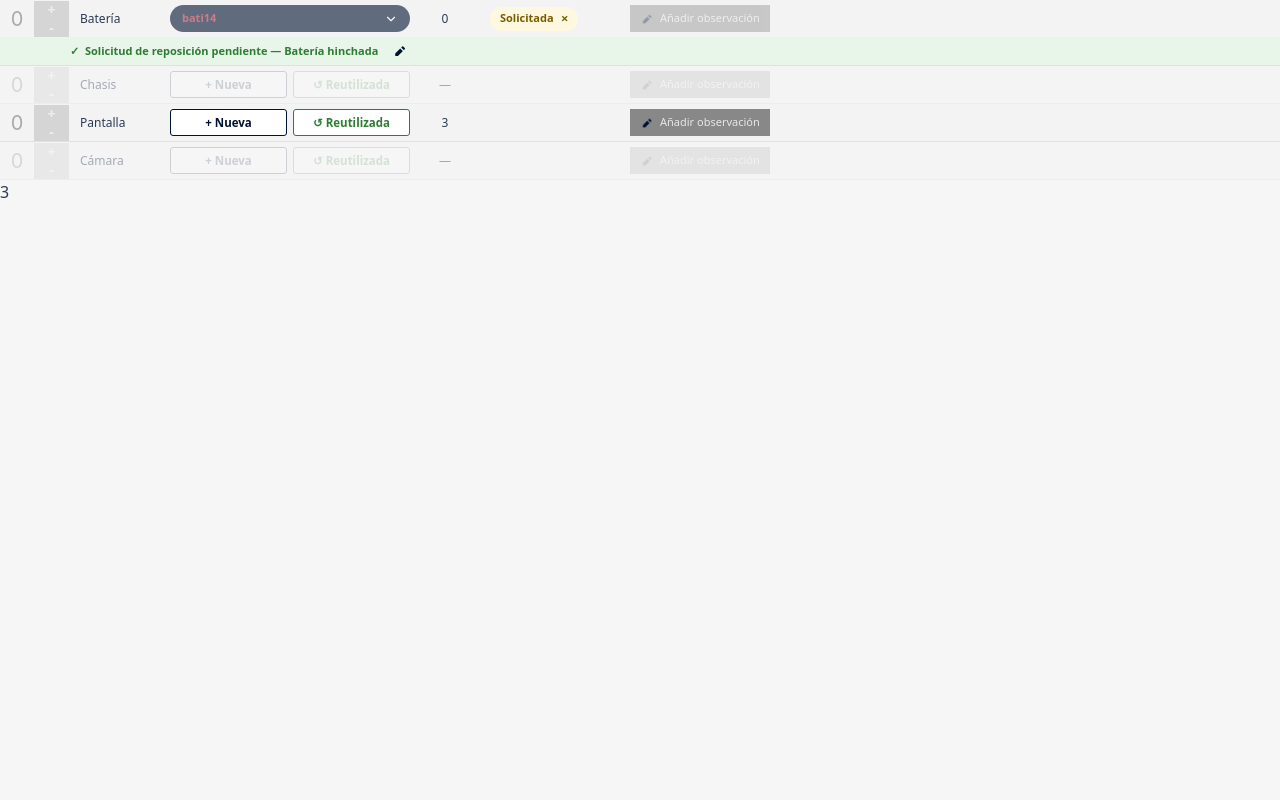
Test: SubFilaAgotado (ficha docs/paridad/formulario.md · Sub-fila de agotado y solicitud de pieza) › lápiz abre "Editar descripción de solicitud" con tres botones; "Guardar descripción" actualiza sin subir revision; "Cancelar" no cambia; "Cancelar solicitud" de
This screenshot has width=1280, height=800.
Click the button named "Editar descripción de solicitud de Batería" at (400, 51), box [388, 41, 412, 61]
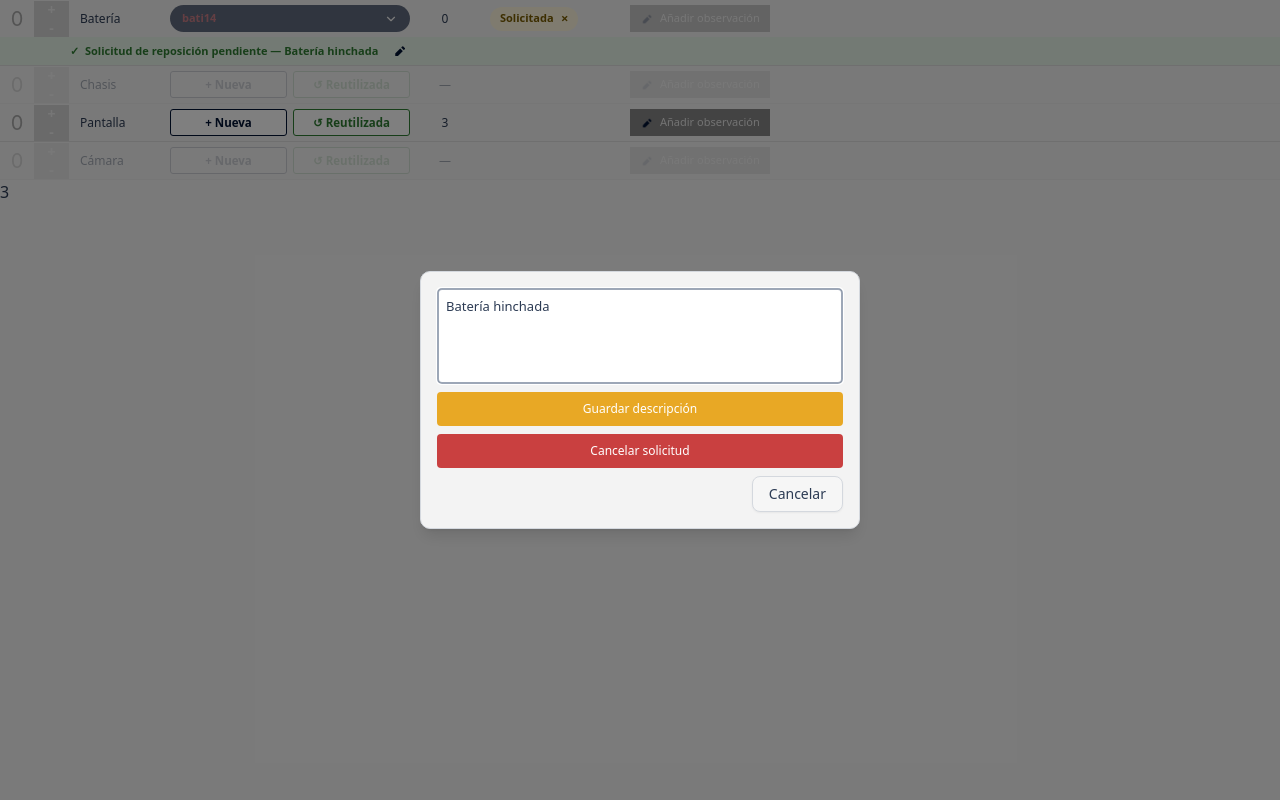
expect the text box holds "Batería hinchada": met
expect the buttons read "Guardar descripción", "Cancelar solicitud", "Cancelar", in this order: met, box [437, 392, 843, 426]; [437, 434, 843, 468]; [752, 476, 843, 512]
Replace the text in the text box with "Batería hinchada, urgente" at (640, 336), box [437, 288, 843, 384]
Click the button "Guardar descripción" at (640, 409), box [437, 392, 843, 426]
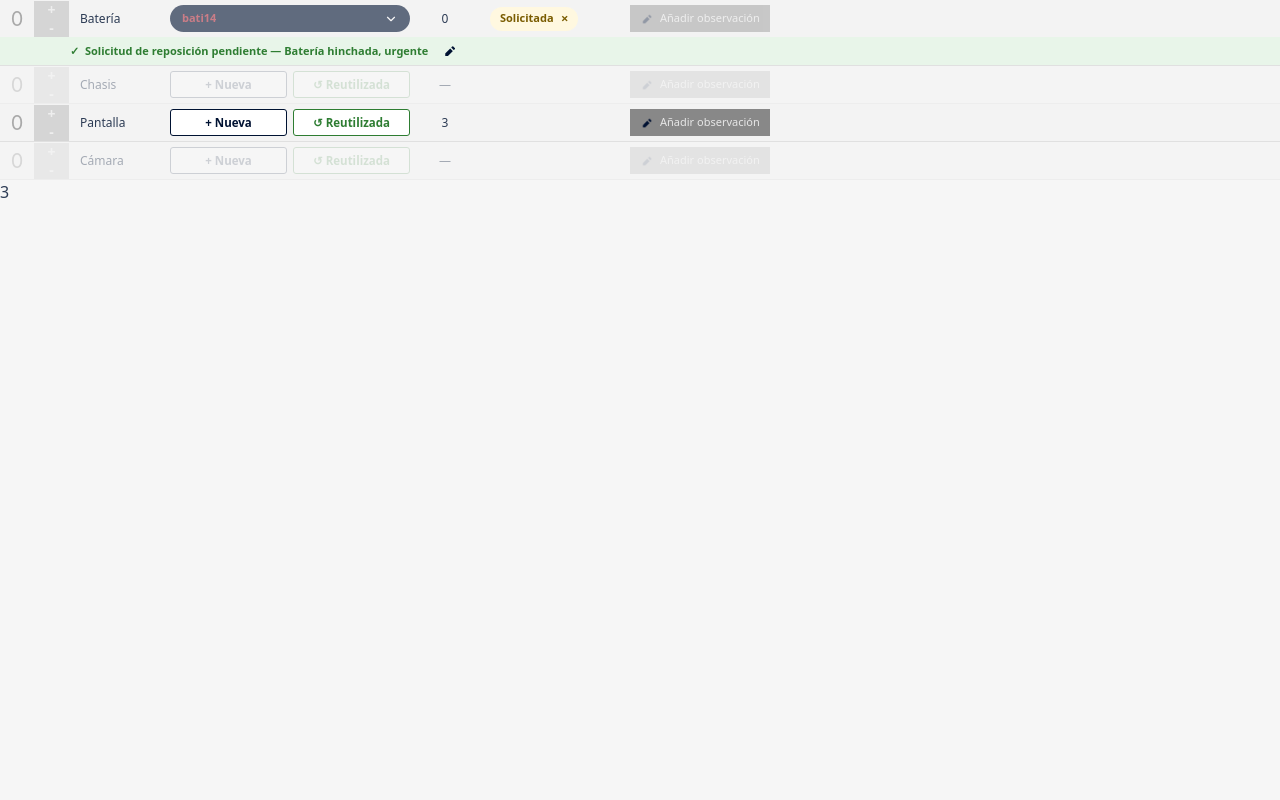
expect the text with test id "revision" reads "3": met, box [0, 181, 9, 203]
expect the dialog is gone: met
expect the text "Solicitud de reposición" reads "✓ Solicitud de reposición pendiente — Batería hinchada, urgente": met, box [70, 43, 428, 58]
// "Cancelar" cierra sin cambios.
Click the button named "Editar descripción de solicitud de Batería" at (450, 51), box [438, 41, 462, 61]
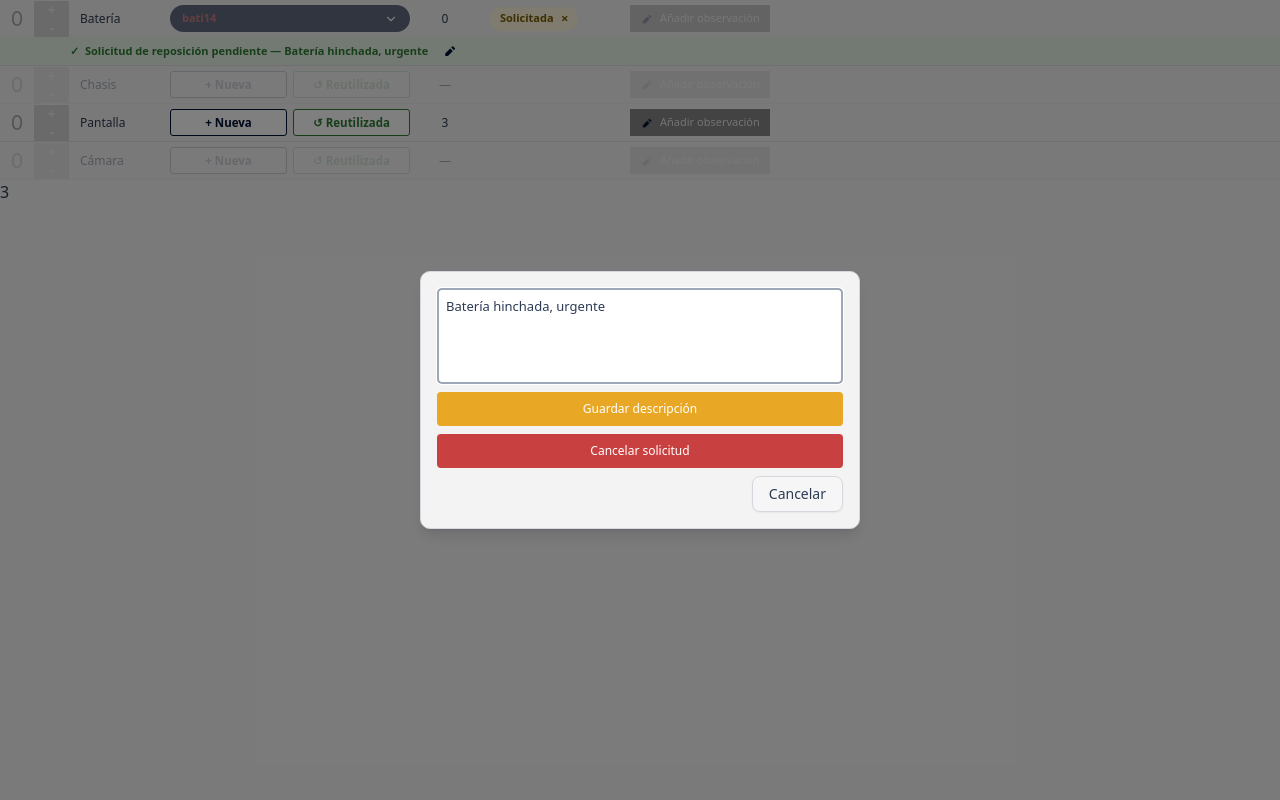
Type " y algo más" into the text box at (640, 336), box [437, 288, 843, 384]
Click the button "Cancelar" at (797, 494), box [752, 476, 843, 512]
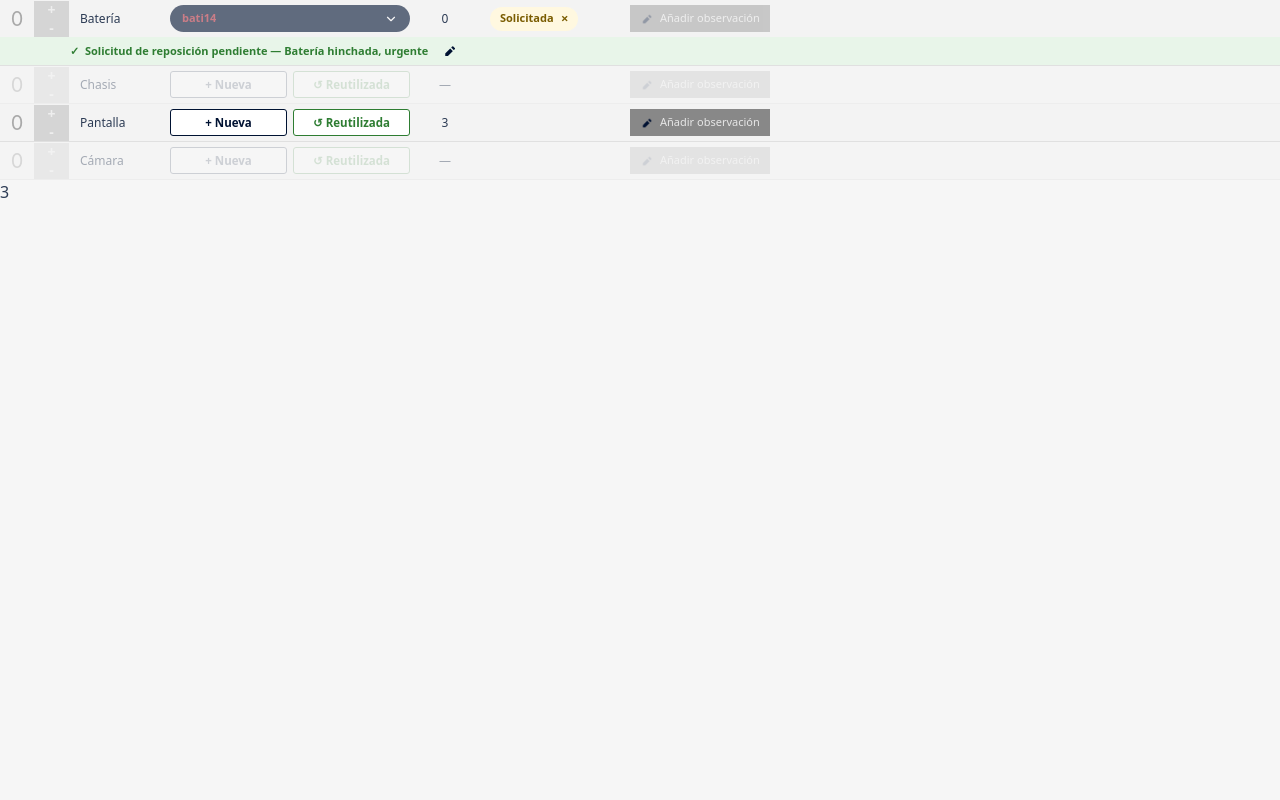
expect the text "Solicitud de reposición" reads "✓ Solicitud de reposición pendiente — Batería hinchada, urgente": met, box [70, 43, 428, 58]
// "Cancelar solicitud" vuelve al estado anterior a confirmar.
Click the button named "Editar descripción de solicitud de Batería" at (450, 51), box [438, 41, 462, 61]
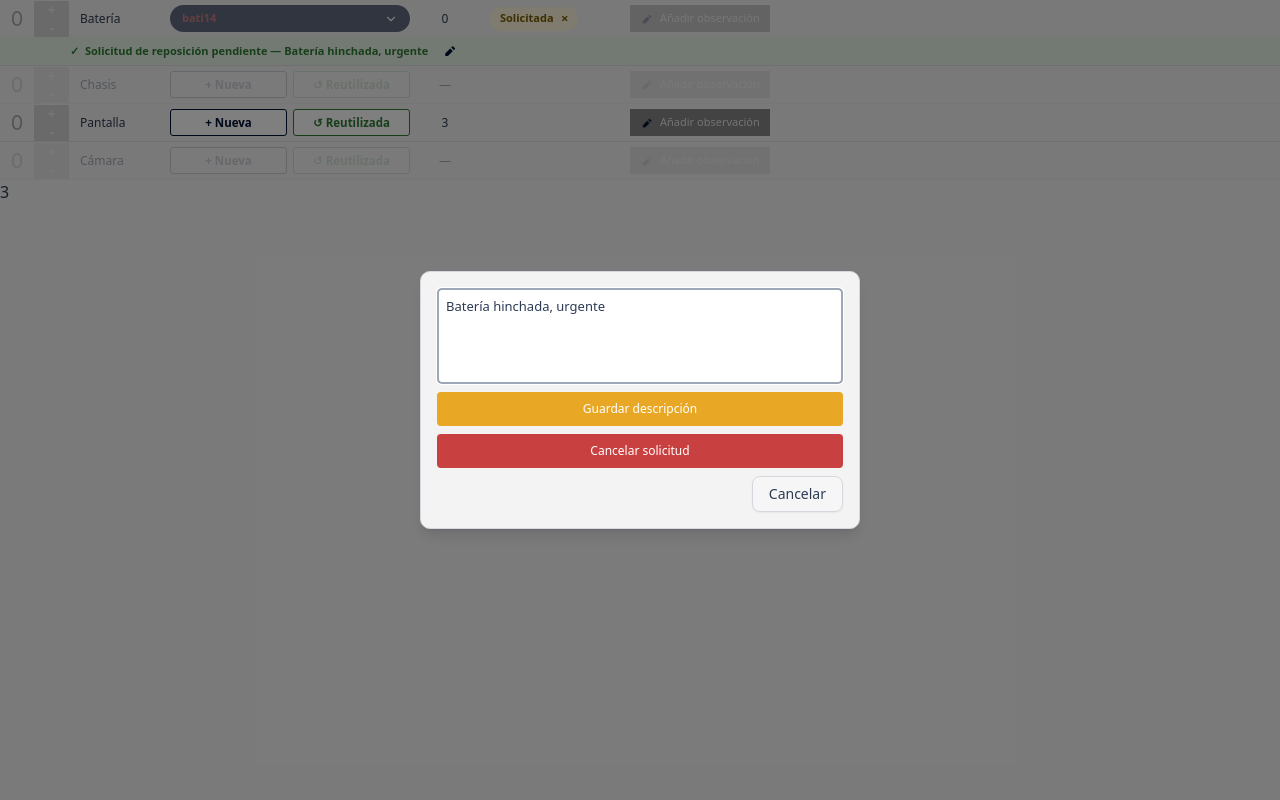
Click the button "Cancelar solicitud" at (640, 451), box [437, 434, 843, 468]
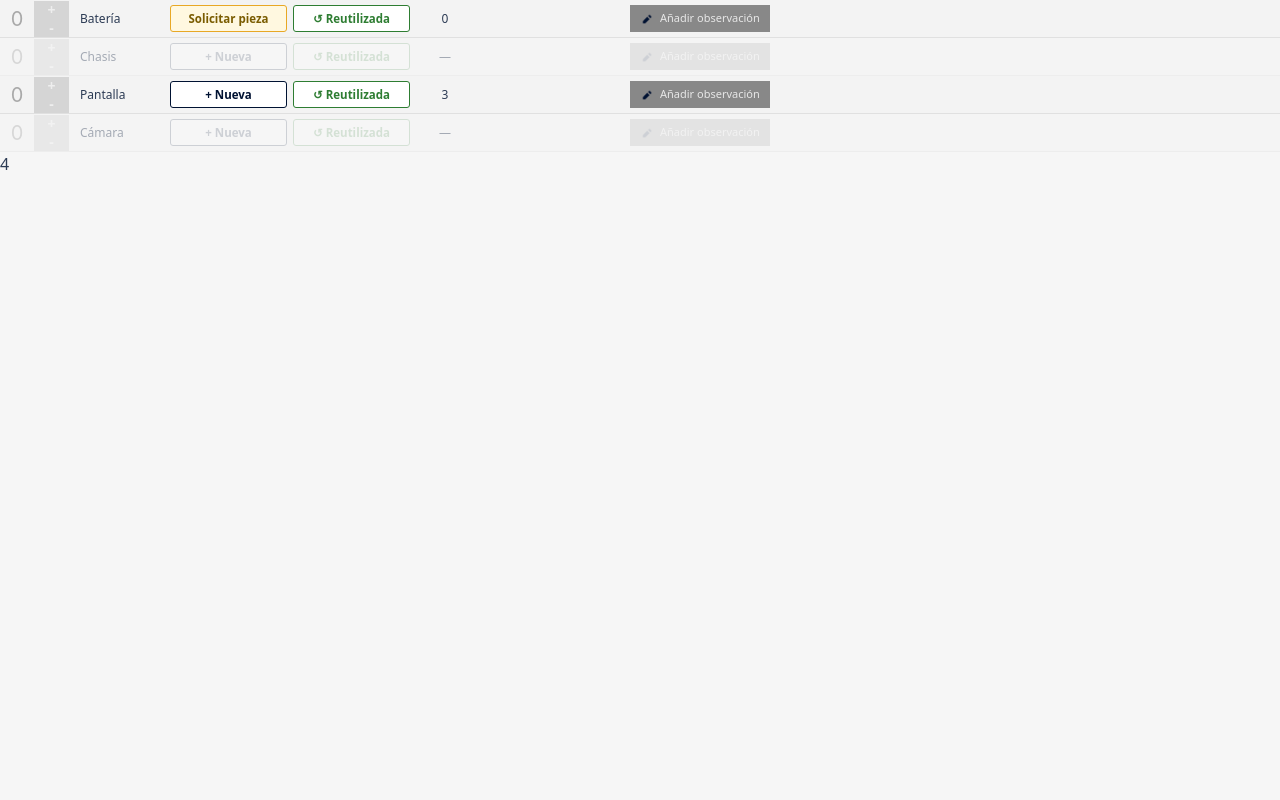
expect the dialog is gone: met
expect the element with test id "subfila-bat" is gone: met
expect the button with aria-label "Reutilizada Batería" is enabled: met, box [293, 5, 410, 32]
